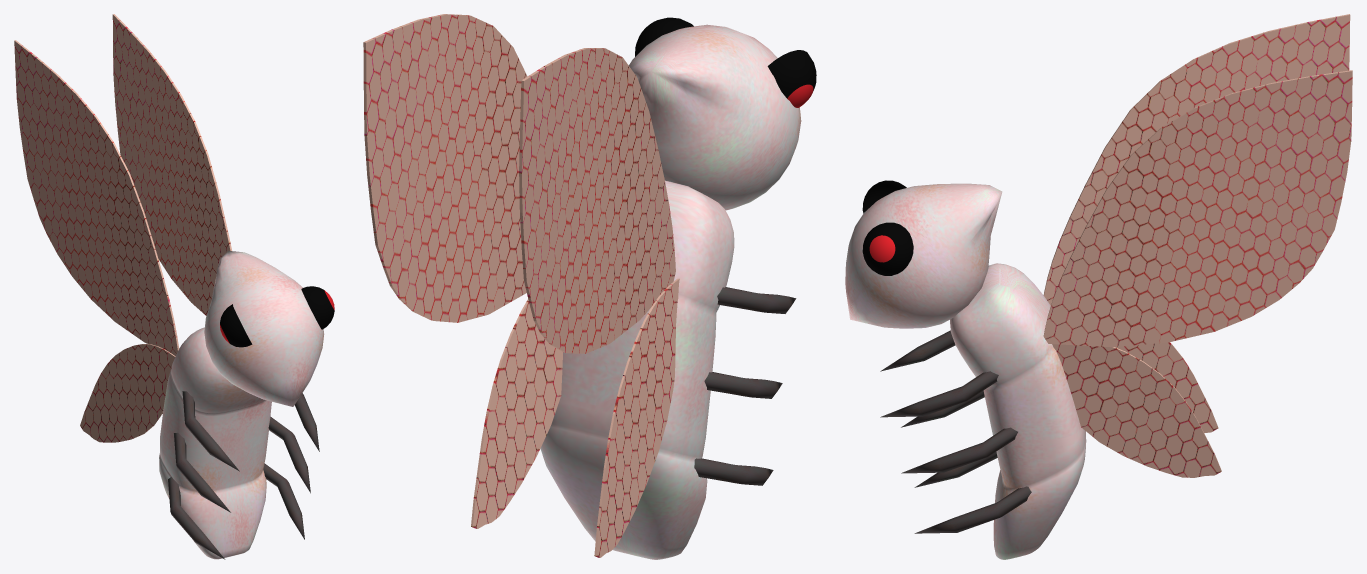
The model's file is LampLight_3DAsset_Moth.FBX.
3 views of the same model, side by side, from view 1: azimuth 30°, elevation 25°; view 2: azimuth 150°, elevation 25°; view 3: azimuth 270°, elevation 25° (orthographic). The views are drawn at different scales.
Parts seen in each view (by area): view 1: Right_Wing, Left_Wing, MothBody, Mothhead, Leg004, Leg005, Leg006, Leg002, Leg003, Mioth_RightEye, Mioth_LeftEye, Leg1; view 2: Left_Wing, Right_Wing, MothBody, Mothhead, Mioth_LeftEye, Leg004, Leg006, Leg005, Mioth_RightEye; view 3: Left_Wing, MothBody, Right_Wing, Mothhead, Mioth_RightEye, Leg1, Leg003, Leg002, Leg006, Leg004.
Part boxes in pixels (<box>): Right_Wing: <box>14,40,179,442</box>; Left_Wing: <box>112,14,232,413</box>; MothBody: <box>159,327,271,559</box>; Mothhead: <box>204,251,324,406</box>; Leg004: <box>168,477,225,559</box>; Leg005: <box>174,432,230,512</box>; Leg006: <box>182,391,239,471</box>; Leg002: <box>268,416,310,493</box>; Leg003: <box>263,463,304,539</box>; Mioth_RightEye: <box>301,286,334,329</box>; Mioth_LeftEye: <box>220,304,252,347</box>; Leg1: <box>295,393,319,451</box>; Left_Wing: <box>363,14,563,528</box>; Right_Wing: <box>519,48,679,557</box>; MothBody: <box>540,180,734,559</box>; Mothhead: <box>629,24,801,210</box>; Mioth_LeftEye: <box>767,50,816,107</box>; Leg004: <box>694,458,773,485</box>; Leg006: <box>717,287,796,313</box>; Leg005: <box>704,372,782,398</box>; Mioth_RightEye: <box>635,17,693,56</box>; Left_Wing: <box>1043,70,1352,477</box>; MothBody: <box>950,263,1086,559</box>; Right_Wing: <box>1043,14,1350,432</box>; Mothhead: <box>845,183,1002,328</box>; Mioth_RightEye: <box>862,222,913,275</box>; Leg1: <box>880,371,998,417</box>; Leg003: <box>914,486,1031,533</box>; Leg002: <box>901,427,1017,473</box>; Leg006: <box>880,330,955,371</box>; Leg004: <box>914,452,997,487</box>.
Bounding box in the file's own units: 19.63 × 63.65 × 58.6.
